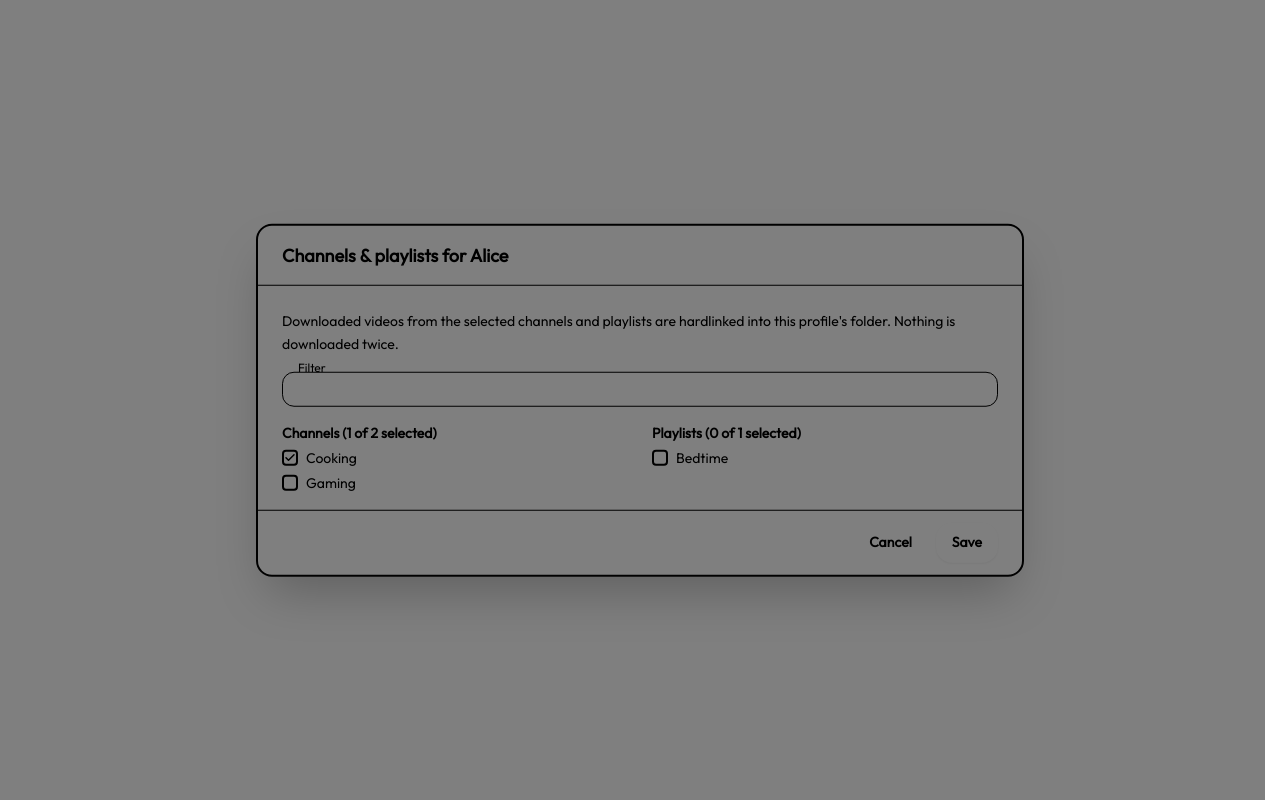
Test case: ProfileSubscriptionsDialog › filter hides non-matching sources
This screenshot has width=1280, height=800.
Type "bed" into the field labelled "Filter" at (640, 389), box [282,371,998,406]
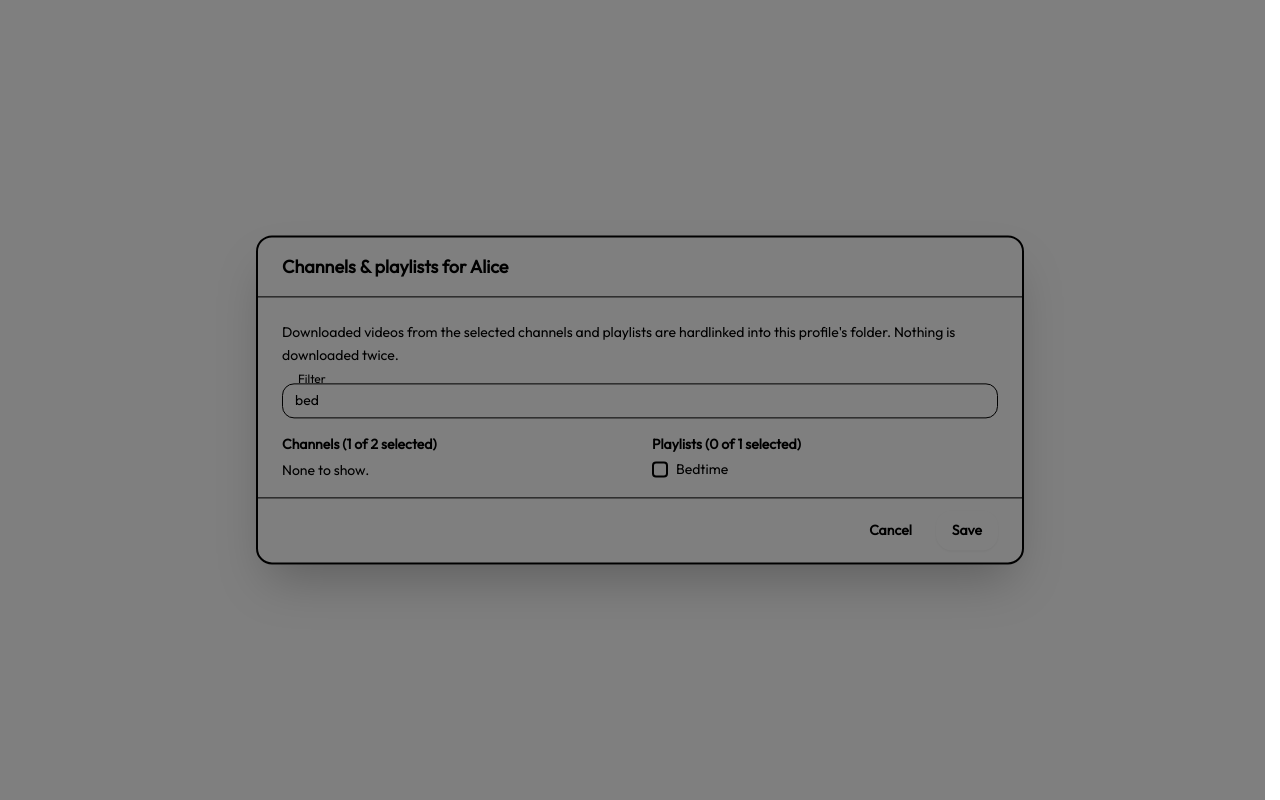
Expected: the text "Cooking" is gone
